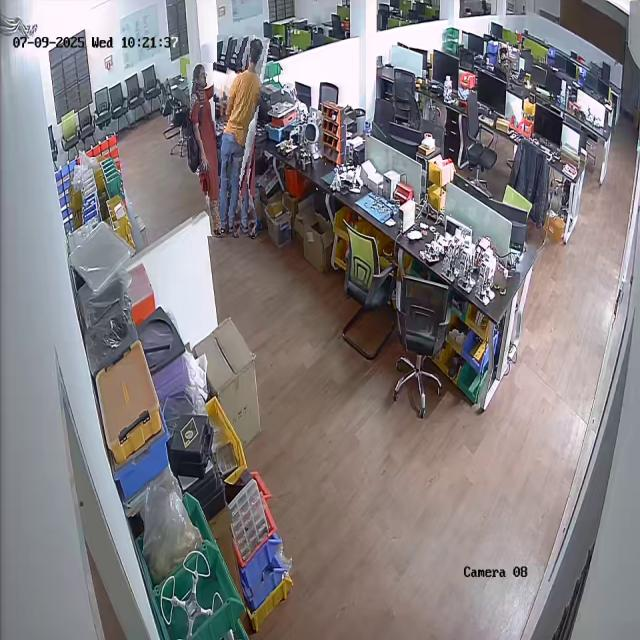person: (209, 34, 263, 238), (186, 63, 227, 236)
